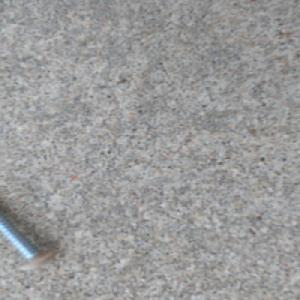Screw: (0, 206, 58, 272)
